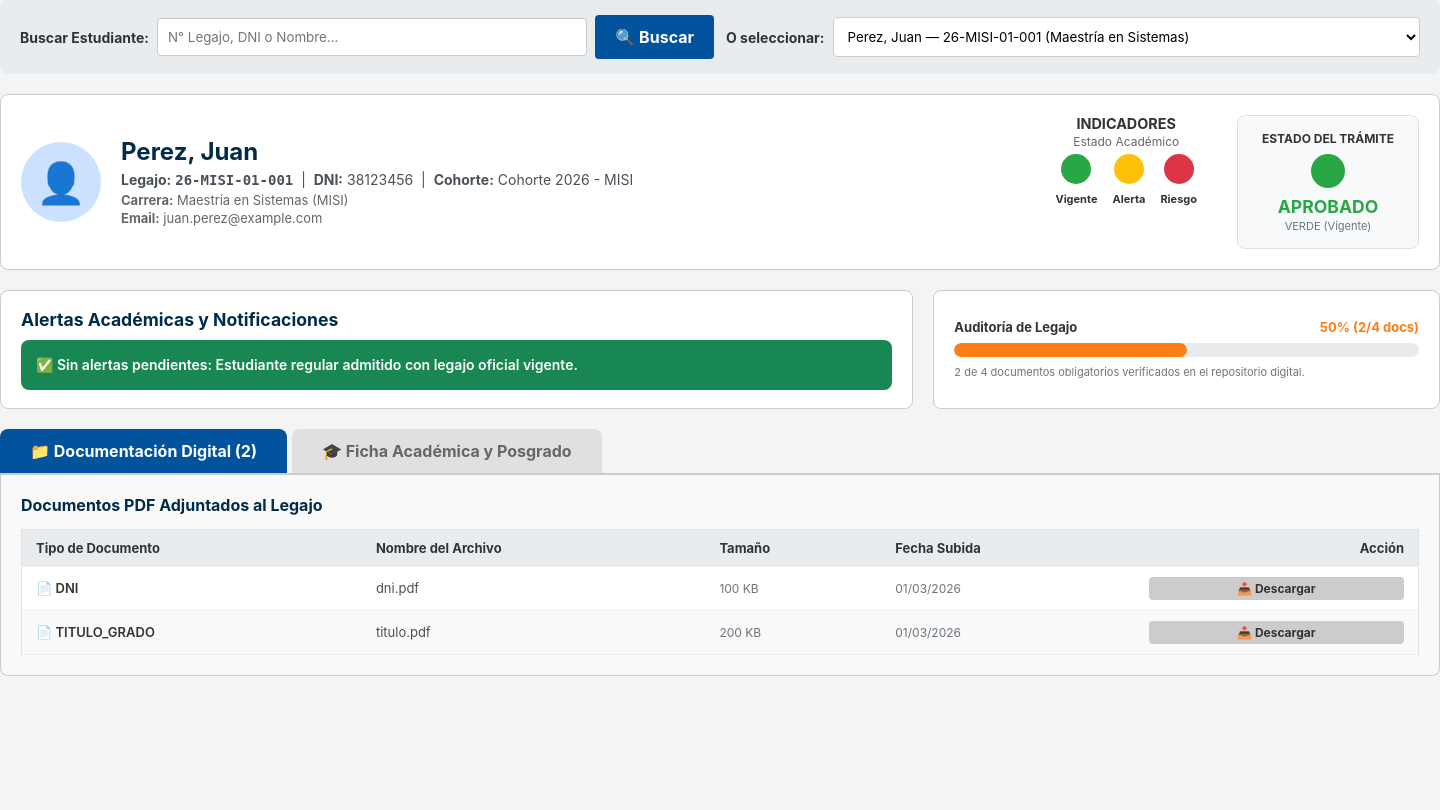
Scenario: PanelConduccionEstudiante Component › renderiza datos del estudiante y calcula completitud de documentos
expect the heading "Perez, Juan" is shown: met, box [121, 136, 258, 166]
expect the text "26-MISI-01-001" is shown: met, box [175, 172, 293, 188]
Click the text "🎓 Ficha Académica y Posgrado" at (447, 451), box [292, 429, 602, 473]
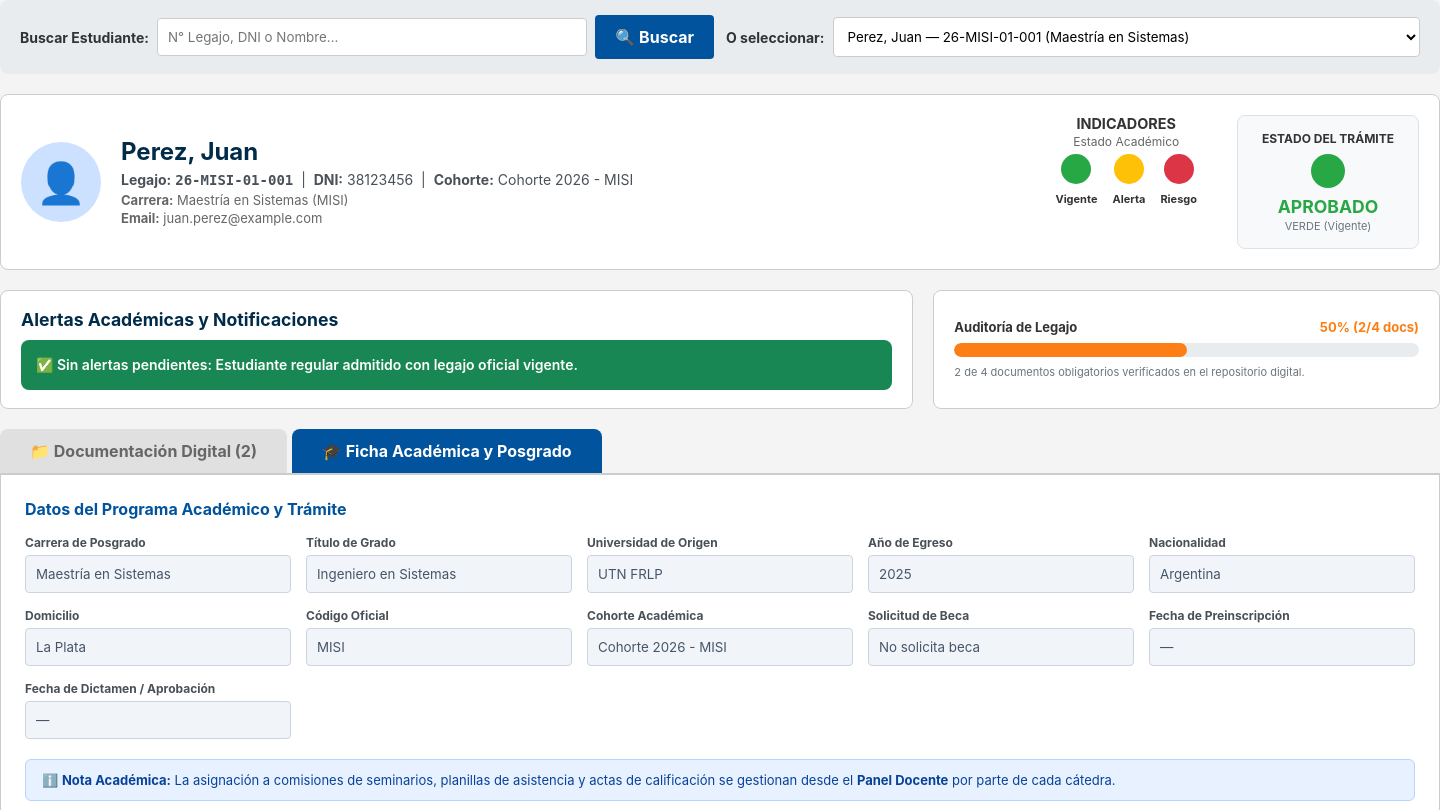
expect the field showing "Ingeniero en Sistemas" below "Título de Grado" is shown: met, box [306, 555, 572, 593]
expect the field showing "UTN FRLP" below "Universidad de Origen" is shown: met, box [587, 555, 853, 593]
expect the field showing "2025" below "Año de Egreso" is shown: met, box [868, 555, 1134, 593]
